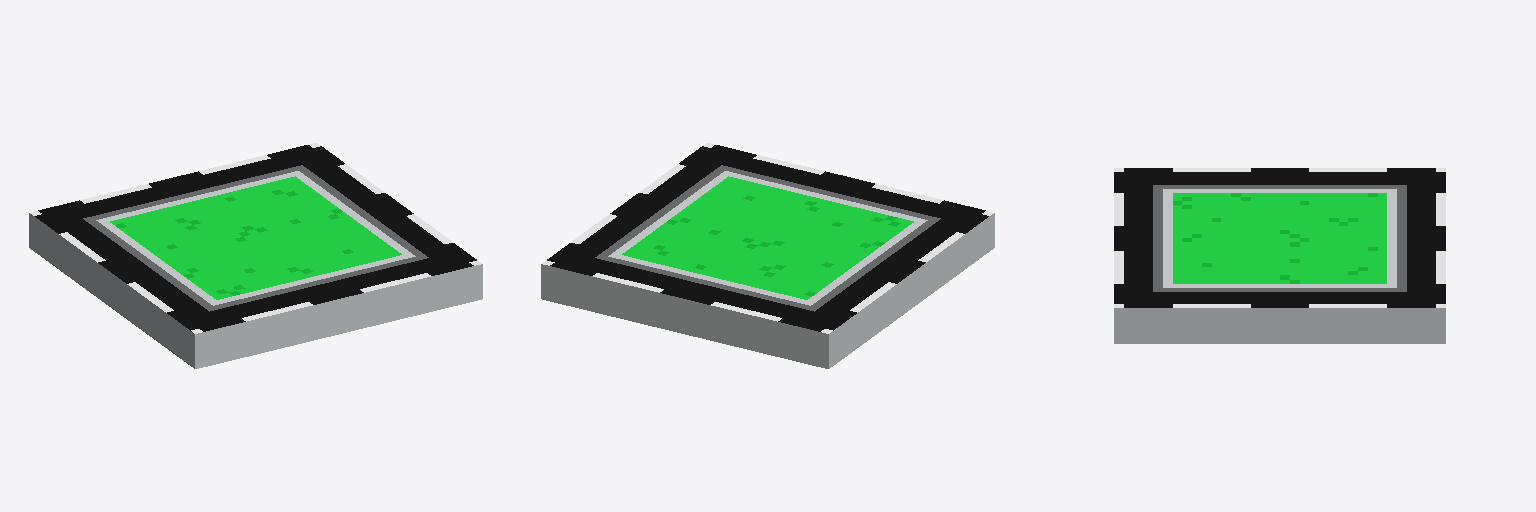
3 views of the same model, side by side, from view 1: azimuth 30°, elevation 25°; view 2: azimuth 150°, elevation 25°; view 3: azimuth 270°, elevation 25° (orthographic).
Parts seen in each view (by area): view 1: cube; view 2: cube; view 3: cube.
Boxes of the visible parts, x1=… form: cube: x1=29, y1=143, x2=482, y2=368; cube: x1=541, y1=143, x2=994, y2=368; cube: x1=1114, y1=168, x2=1445, y2=343.
Size of the model in its own units: 1 by 0.1176 by 1.
Materials: 1 (1 with a texture image).